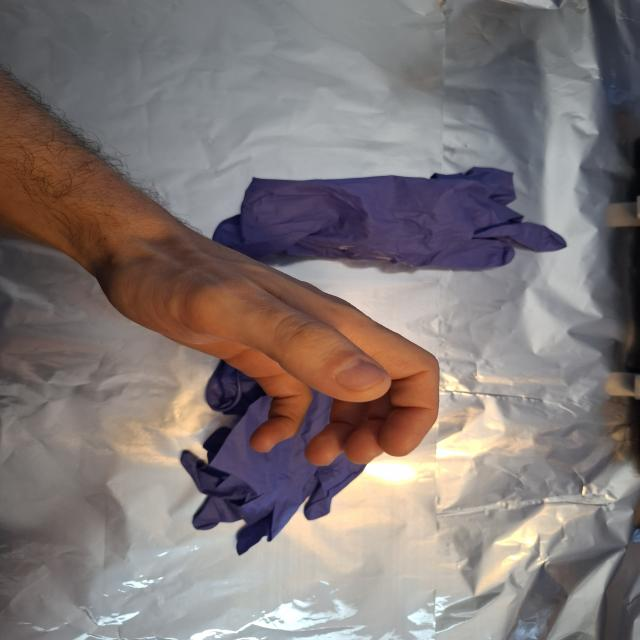glove_off: (96, 230, 442, 468)
